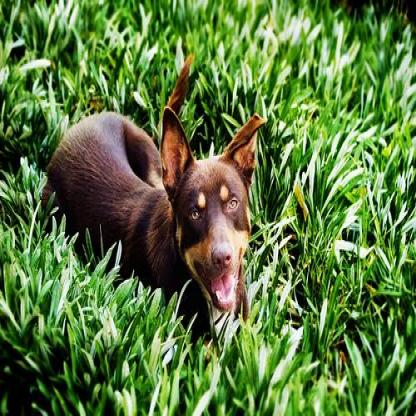kelpie: (41, 52, 263, 348)
